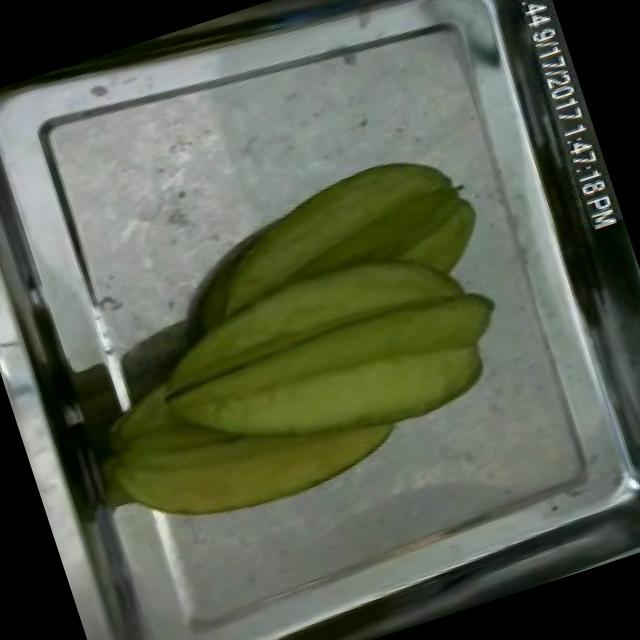fruit: (94, 138, 544, 546)
